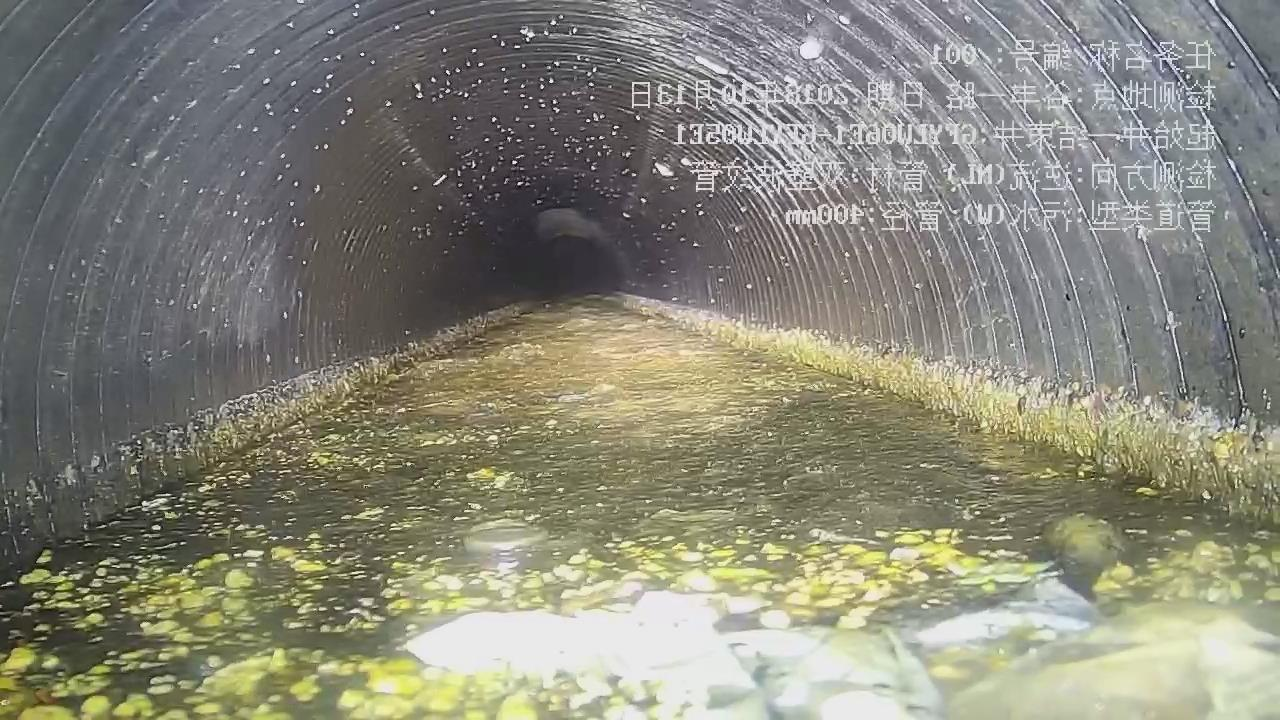FZ: (1, 299, 1280, 719)
